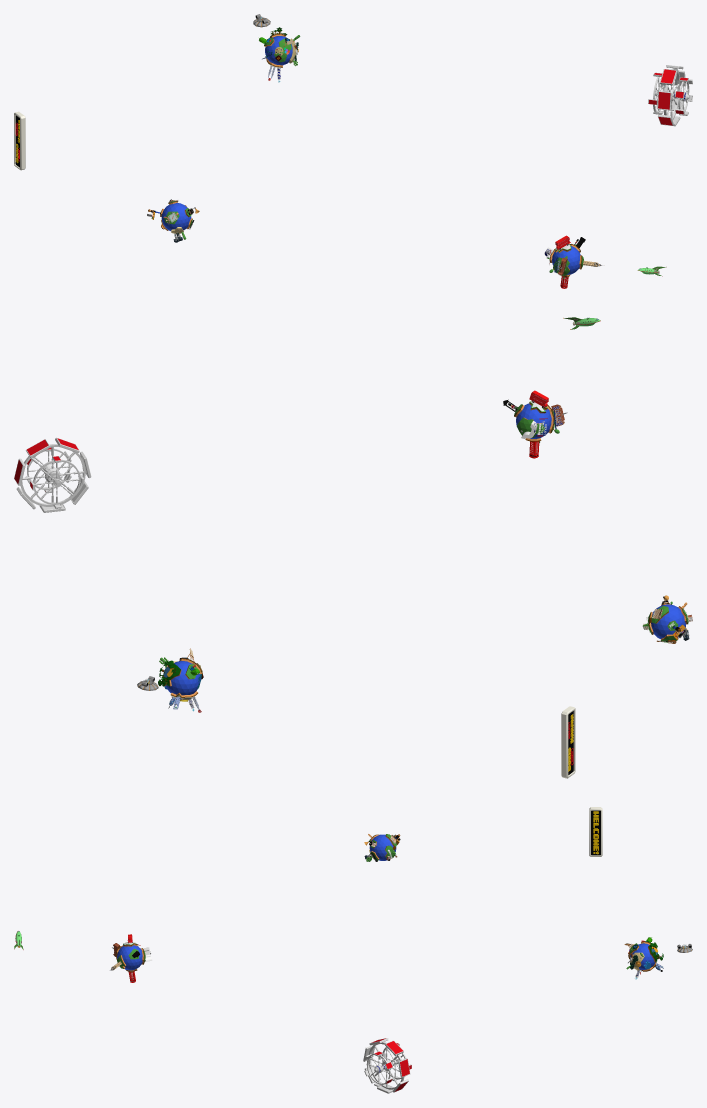
The model's file is planets.glb.
3 renders of one model, top to bottom at view 1: azimuth 30°, elevation 25°; view 2: azimuth 150°, elevation 25°; view 3: azimuth 270°, elevation 25°, orthographic. The views are drawn at different scales.
Visible parts, largest first — view 1: Space_station, planet_2, planet_4, planet_1, Text.012; view 2: Space_station, planet_2, planet_4, planet_1, Text.012; view 3: Space_station, planet_2, Text.012, planet_4, planet_1.
Part boxes in pixels (bbox=[...]): Space_station: bbox=[648, 65, 692, 126]; planet_2: bbox=[544, 235, 602, 288]; planet_4: bbox=[264, 32, 295, 67]; planet_1: bbox=[160, 201, 192, 233]; Text.012: bbox=[14, 111, 25, 170]; Space_station: bbox=[14, 437, 91, 512]; planet_2: bbox=[503, 390, 567, 458]; planet_4: bbox=[161, 658, 202, 699]; planet_1: bbox=[643, 601, 688, 642]; Text.012: bbox=[561, 706, 575, 778]; Space_station: bbox=[363, 1038, 411, 1093]; planet_2: bbox=[110, 934, 152, 982]; Text.012: bbox=[589, 807, 602, 856]; planet_4: bbox=[628, 941, 658, 971]; planet_1: bbox=[369, 834, 396, 860].
Size of what is drawn, in the model's own units: 3.03 by 0.3258 by 3.54.
163 materials, 11 textured.
